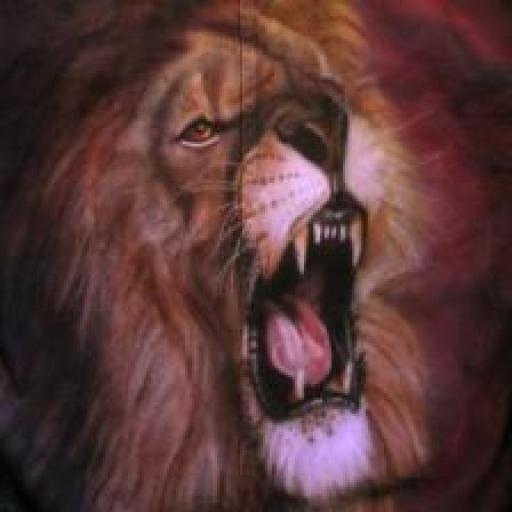lion: (0, 0, 510, 510)
